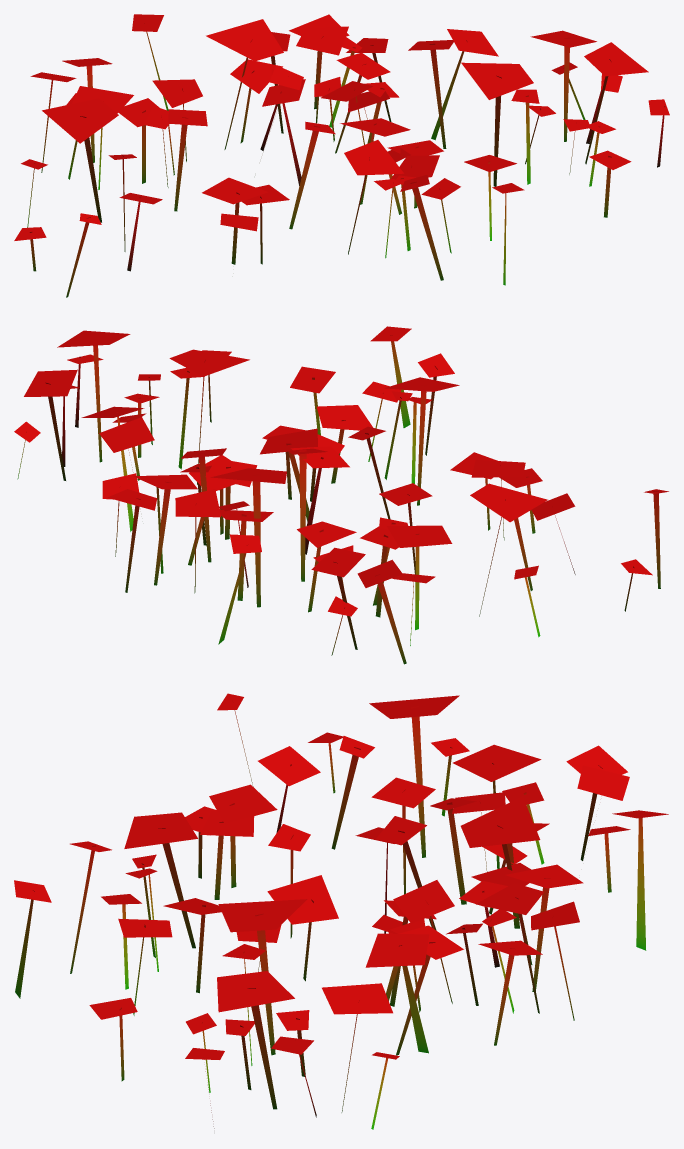
File: Clovers_ground.fbx
3 views of the same model, one above another, from view 1: azimuth 30°, elevation 25°; view 2: azimuth 150°, elevation 25°; view 3: azimuth 270°, elevation 25° (orthographic). The views are drawn at different scales.
Visible parts, largest first — view 1: clovers_ground_LOD0; view 2: clovers_ground_LOD0; view 3: clovers_ground_LOD0.
Part boxes in pixels (left/top/right/bottom): clovers_ground_LOD0: left=14, top=14, right=669, bottom=297; clovers_ground_LOD0: left=14, top=326, right=668, bottom=664; clovers_ground_LOD0: left=14, top=693, right=668, bottom=1129.
Size of what is drawn, in the model's own units: 67.56 by 12.96 by 52.1.
